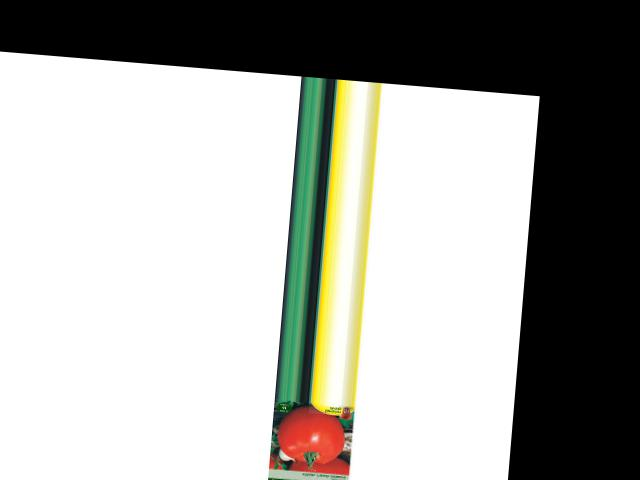tomato: (275, 403, 347, 465)
